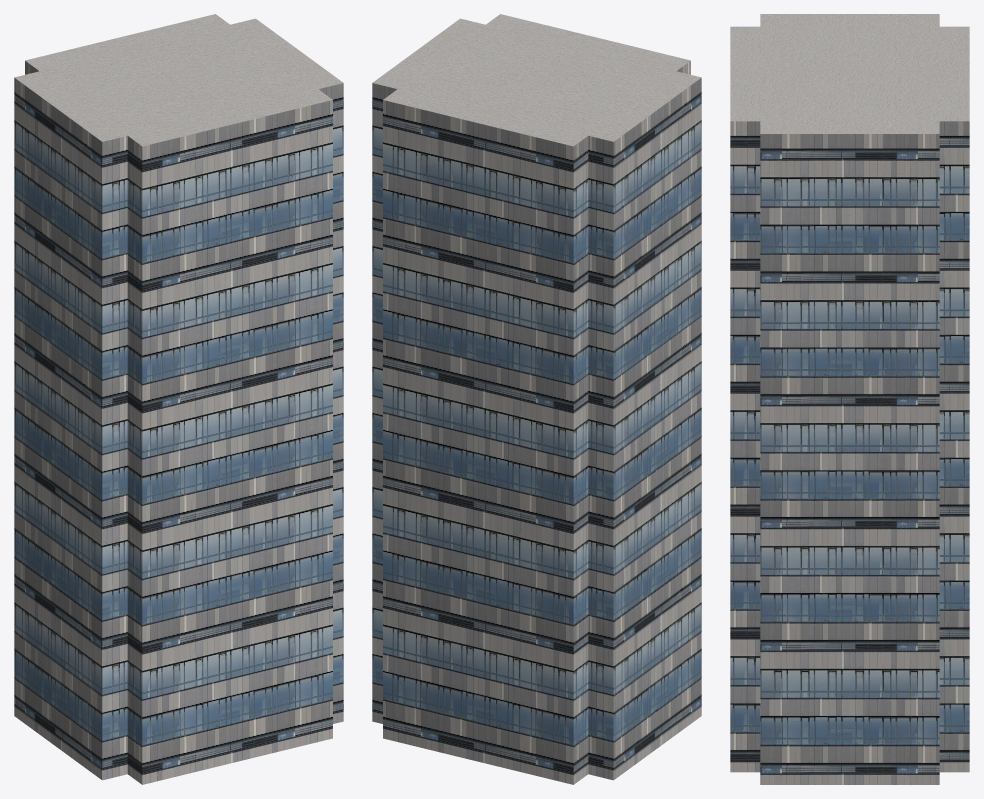
The model's file is Building 5.fbx.
3 views of the same model, side by side, from view 1: azimuth 30°, elevation 25°; view 2: azimuth 150°, elevation 25°; view 3: azimuth 270°, elevation 25° (orthographic).
Parts seen in each view (by area): view 1: Building 5; view 2: Building 5; view 3: Building 5.
Boxes of the visible parts, <box> form: Building 5: <box>14,14,343,784</box>; Building 5: <box>372,14,701,784</box>; Building 5: <box>730,14,969,784</box>.
Size of the model in its own units: 1425 by 3600 by 1200.
Materials: 2 (2 with a texture image).
